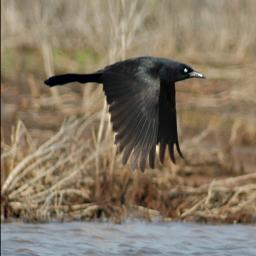Crow: (44, 55, 208, 173)
